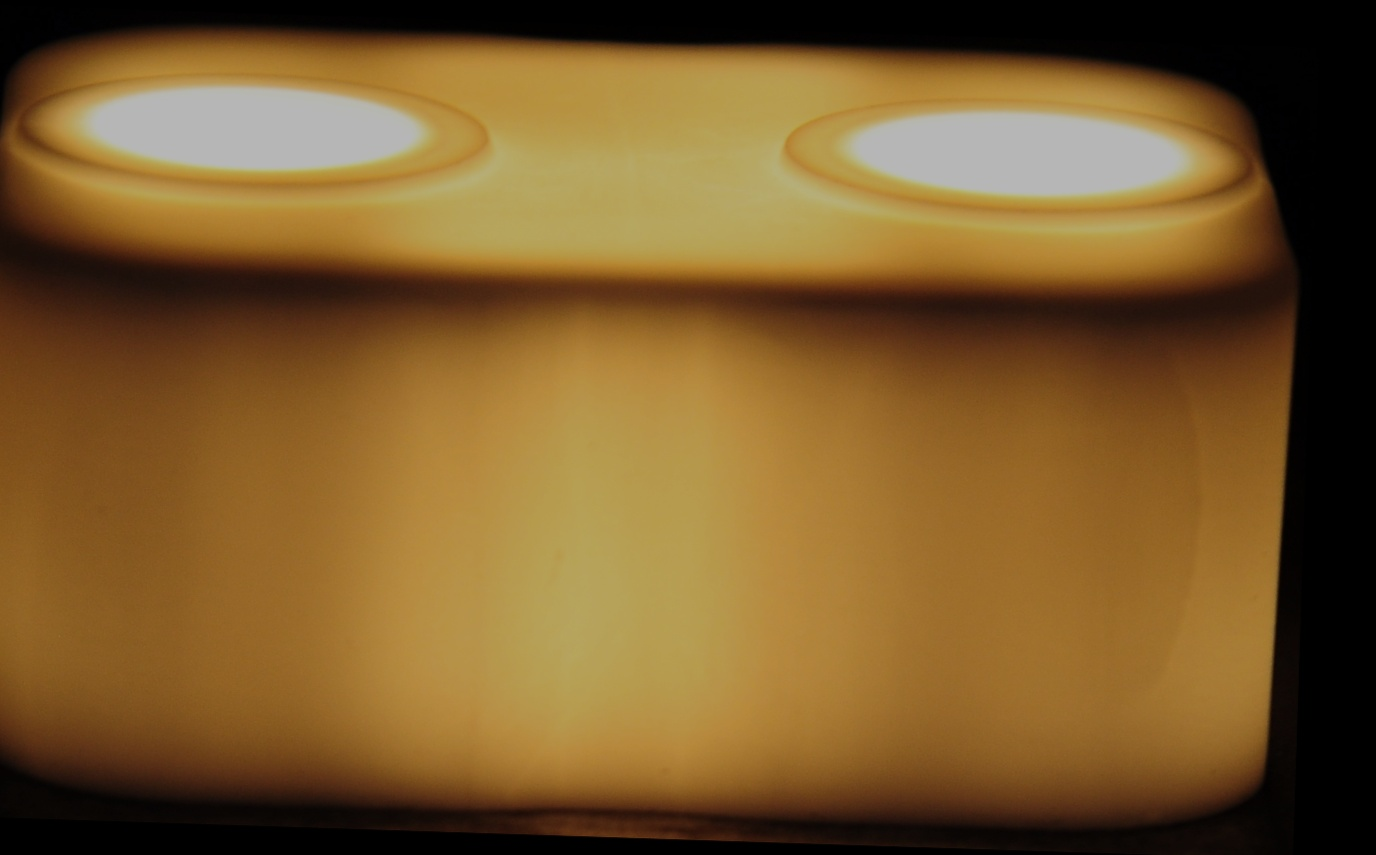flaw: (1135, 320, 1220, 723)
